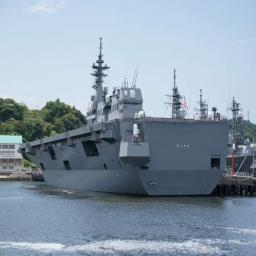Portanaves: (18, 36, 233, 200)
